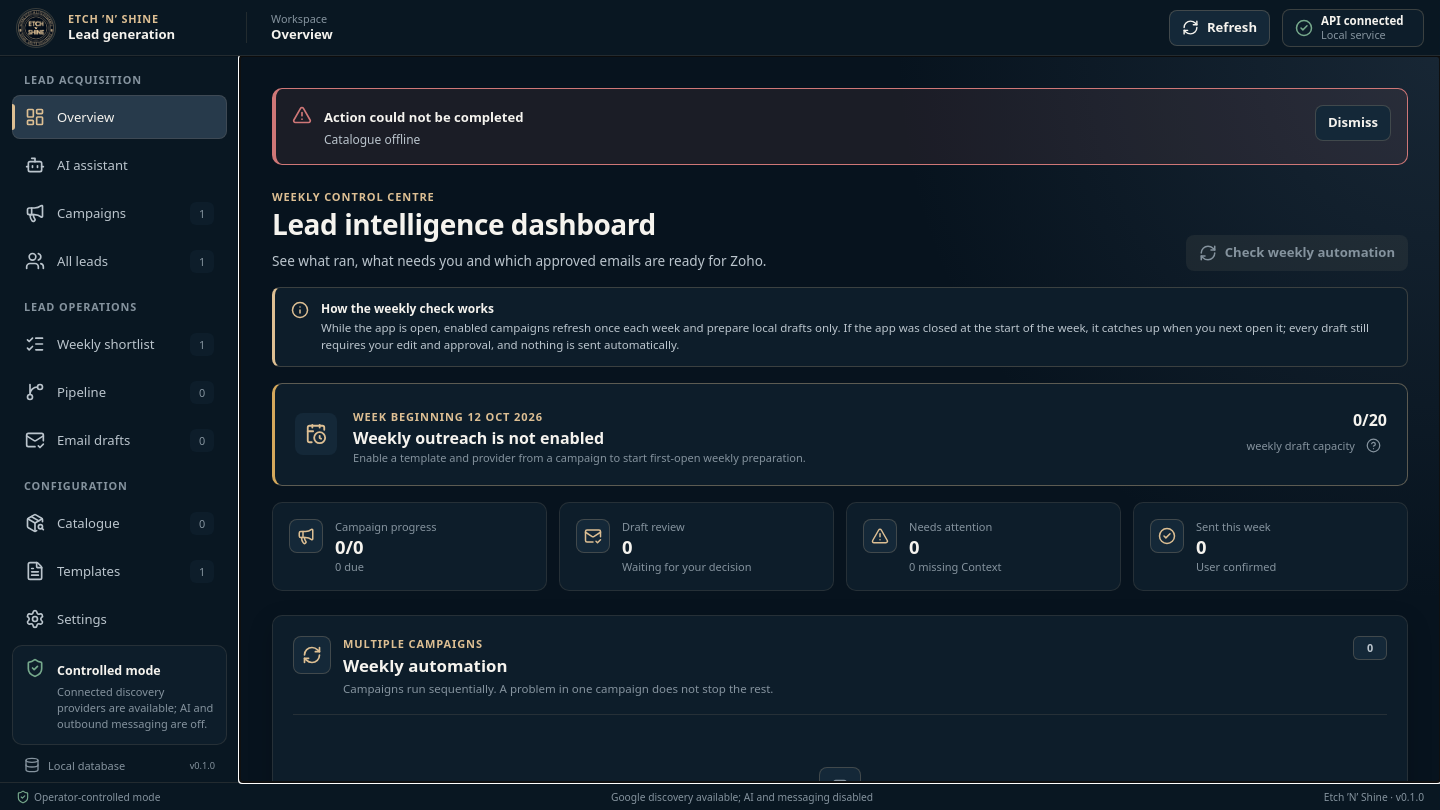
local operating workbench › keeps showing leads when another resource fails to load
This screenshot has width=1440, height=810.
Expected: the text "API connected" is shown, [1321,14,1404,28]
Expected: the message "Action could not be completed Catalogue offline Dismiss" is shown, [272,88,1408,165]
Click the link "All leads 1" at (83, 261), box [25,250,214,272]
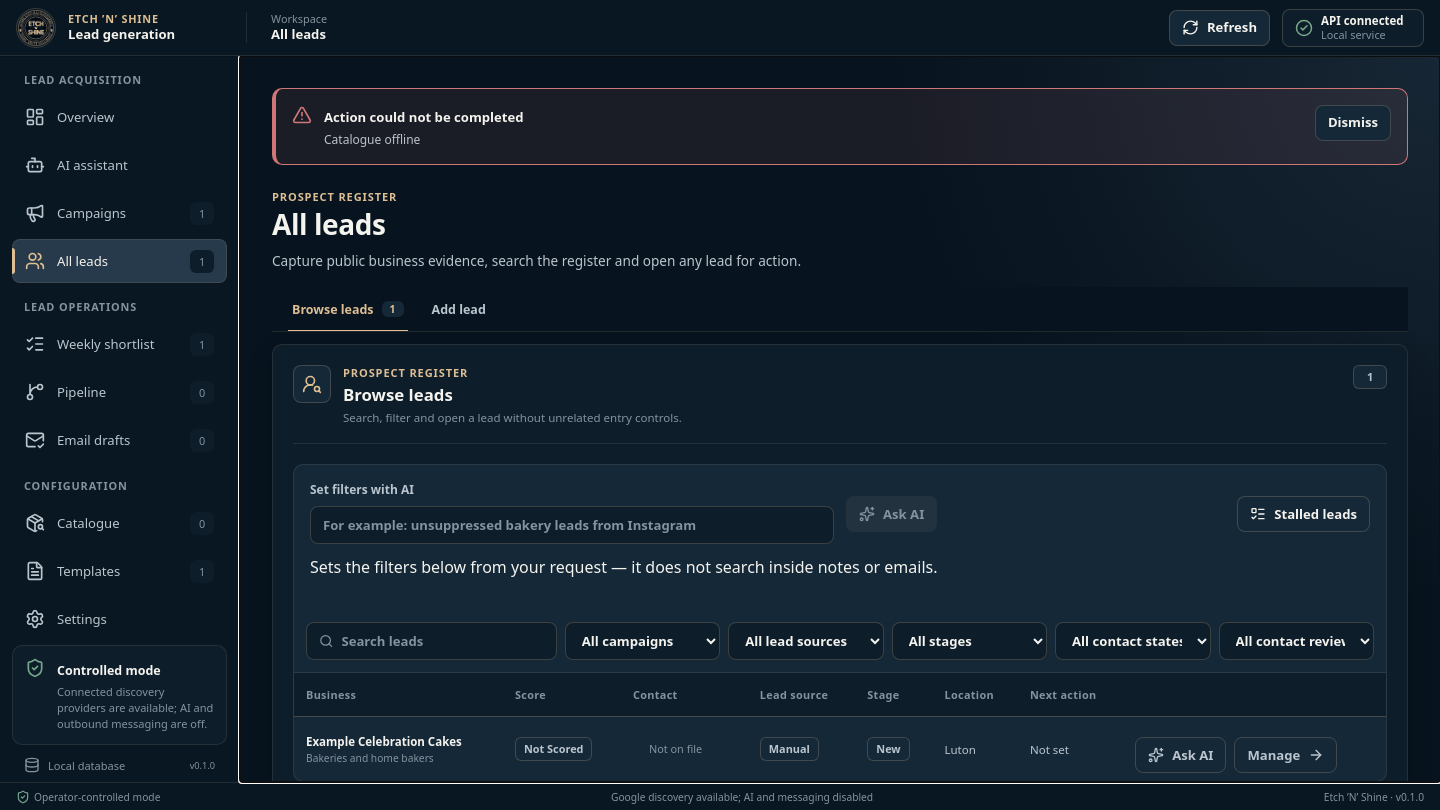
Expected: the text "Example Celebration Cakes" is shown, [306,734,476,749]
